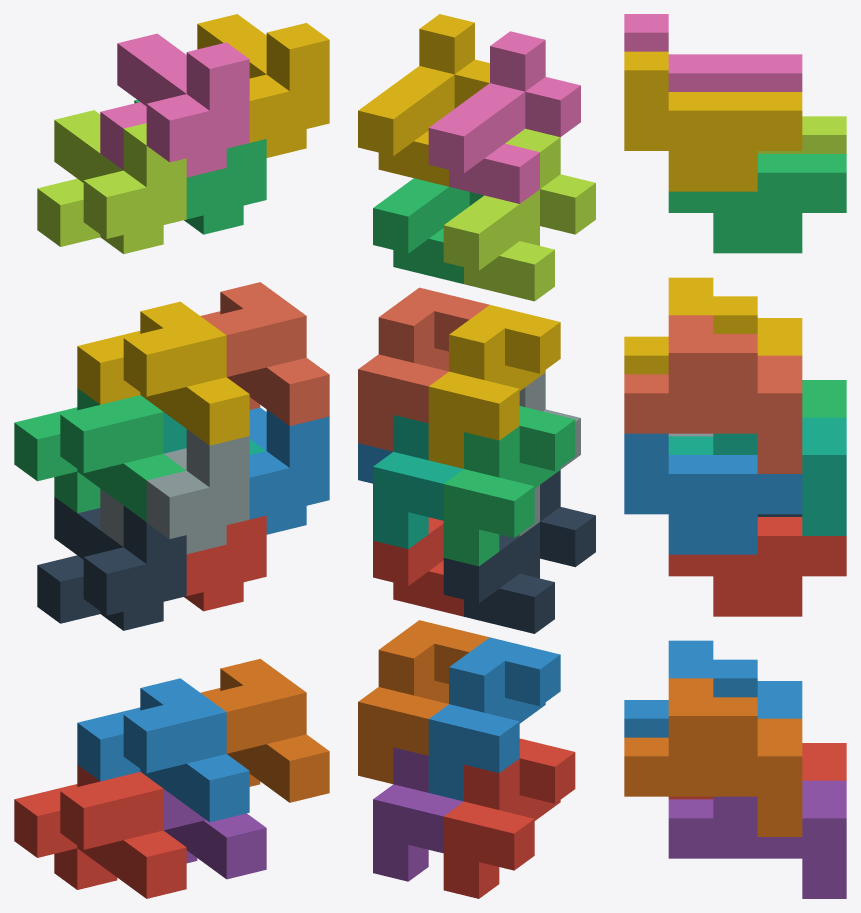
The model's file is tiling.obj.
3 views of the same model, side by side, from view 1: azimuth 30°, elevation 25°; view 2: azimuth 150°, elevation 25°; view 3: azimuth 270°, elevation 25° (orthographic). The views are drawn at different scales.
Parts seen in each view (by area): view 1: copy_1_domain_1, copy_2_domain_4, copy_1_domain_2, copy_1_domain_4, copy_2_domain_3, copy_1_domain_3, copy_2_domain_1, copy_1_domain_6, copy_1_domain_8, copy_2_domain_8, copy_2_domain_2, copy_2_domain_6 (+4 smaller); view 2: copy_2_domain_4, copy_1_domain_2, copy_1_domain_4, copy_2_domain_3, copy_1_domain_1, copy_1_domain_3, copy_2_domain_8, copy_2_domain_1, copy_1_domain_8, copy_1_domain_6, copy_1_domain_5, copy_1_domain_7 (+4 smaller); view 3: copy_1_domain_6, copy_1_domain_8, copy_2_domain_8, copy_2_domain_6, copy_1_domain_5, copy_2_domain_7, copy_2_domain_5, copy_1_domain_7, copy_1_domain_4, copy_1_domain_2, copy_2_domain_4, copy_1_domain_1 (+2 smaller).
Boxes of the visible parts, left/top/right/bottom form: copy_1_domain_1: left=14, top=765, right=186, bottom=898; copy_2_domain_4: left=100, top=33, right=249, bottom=177; copy_1_domain_2: left=77, top=678, right=249, bottom=822; copy_1_domain_4: left=77, top=301, right=249, bottom=445; copy_2_domain_3: left=37, top=110, right=186, bottom=254; copy_1_domain_3: left=14, top=388, right=185, bottom=521; copy_2_domain_1: left=37, top=497, right=186, bottom=630; copy_1_domain_6: left=200, top=658, right=329, bottom=802; copy_1_domain_8: left=200, top=282, right=329, bottom=425; copy_2_domain_8: left=197, top=14, right=329, bottom=157; copy_2_domain_2: left=100, top=429, right=249, bottom=554; copy_2_domain_6: left=249, top=407, right=329, bottom=534; copy_2_domain_4: left=428, top=31, right=580, bottom=203; copy_1_domain_2: left=428, top=637, right=560, bottom=801; copy_1_domain_4: left=428, top=305, right=560, bottom=468; copy_2_domain_3: left=443, top=128, right=595, bottom=301; copy_1_domain_1: left=443, top=738, right=575, bottom=898; copy_1_domain_3: left=443, top=406, right=575, bottom=566; copy_2_domain_8: left=358, top=14, right=489, bottom=186; copy_2_domain_1: left=443, top=470, right=595, bottom=633; copy_1_domain_8: left=358, top=287, right=489, bottom=451; copy_1_domain_6: left=358, top=620, right=489, bottom=783; copy_1_domain_5: left=373, top=747, right=463, bottom=881; copy_1_domain_7: left=373, top=415, right=463, bottom=548; copy_1_domain_6: left=624, top=678, right=802, bottom=836; copy_1_domain_8: left=624, top=315, right=802, bottom=473; copy_2_domain_8: left=624, top=51, right=802, bottom=191; copy_2_domain_6: left=624, top=433, right=802, bottom=554; copy_1_domain_5: left=668, top=780, right=846, bottom=898; copy_2_domain_7: left=668, top=154, right=846, bottom=253; copy_2_domain_5: left=668, top=517, right=846, bottom=616; copy_1_domain_7: left=668, top=417, right=846, bottom=535; copy_1_domain_4: left=624, top=277, right=802, bottom=374; copy_1_domain_2: left=624, top=640, right=802, bottom=737; copy_2_domain_4: left=624, top=14, right=802, bottom=91; copy_1_domain_1: left=668, top=743, right=846, bottom=799.
Size of the model in its own units: 5 by 21 by 5.
